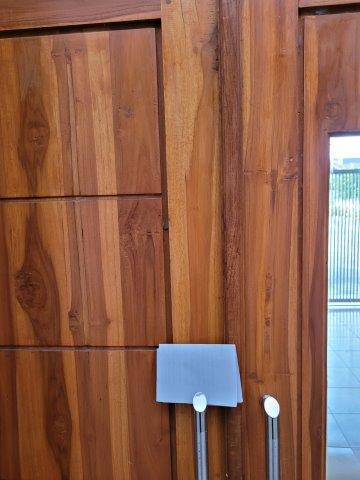kertas: (156, 341, 245, 410)
